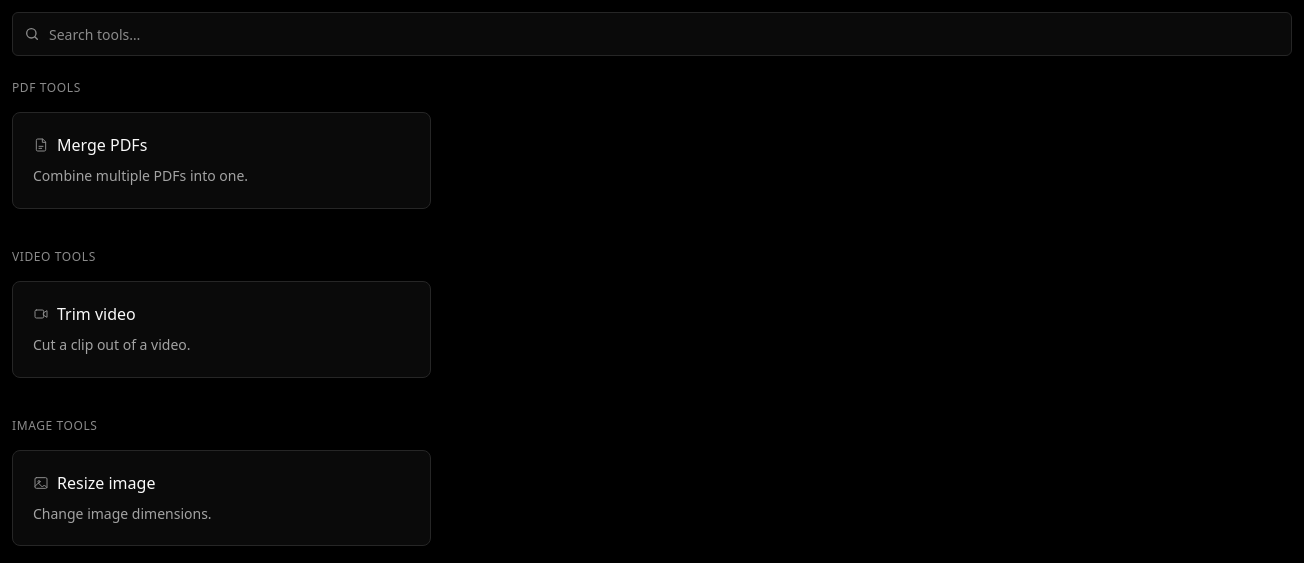
Scenario: HubToolFinder › filters tools as the user types
Type "merge" into the search field with placeholder "Search tools…". click: (652, 34)
box: [12, 12, 1292, 56]
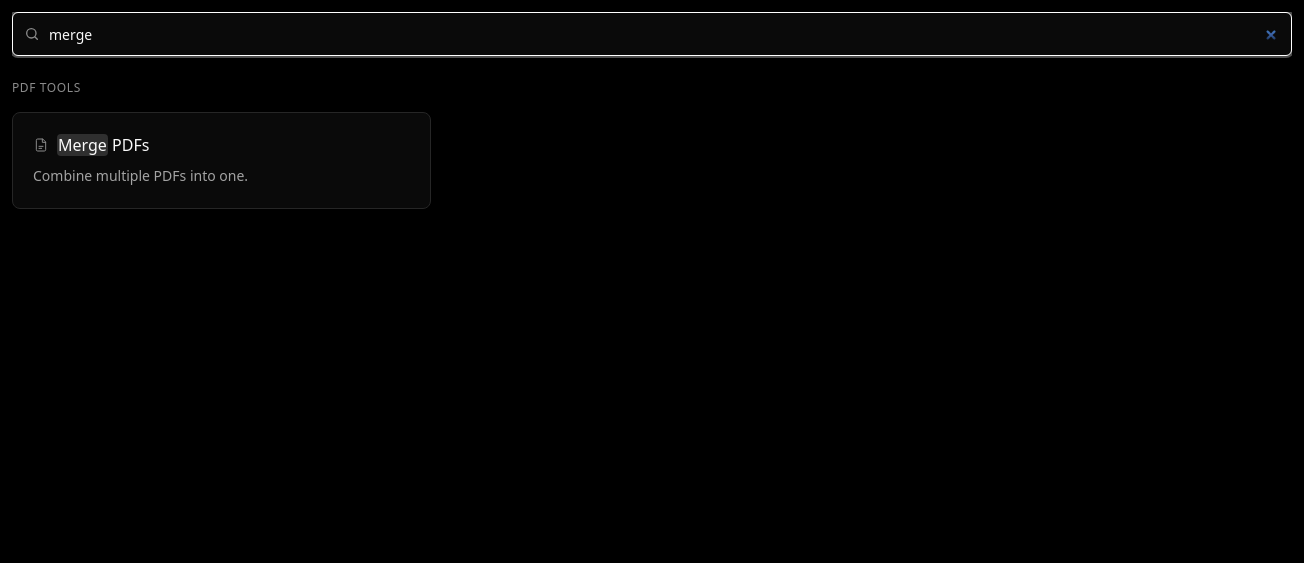
Expected: the link "Resize image" is gone
Expected: the link "Trim video" is gone
